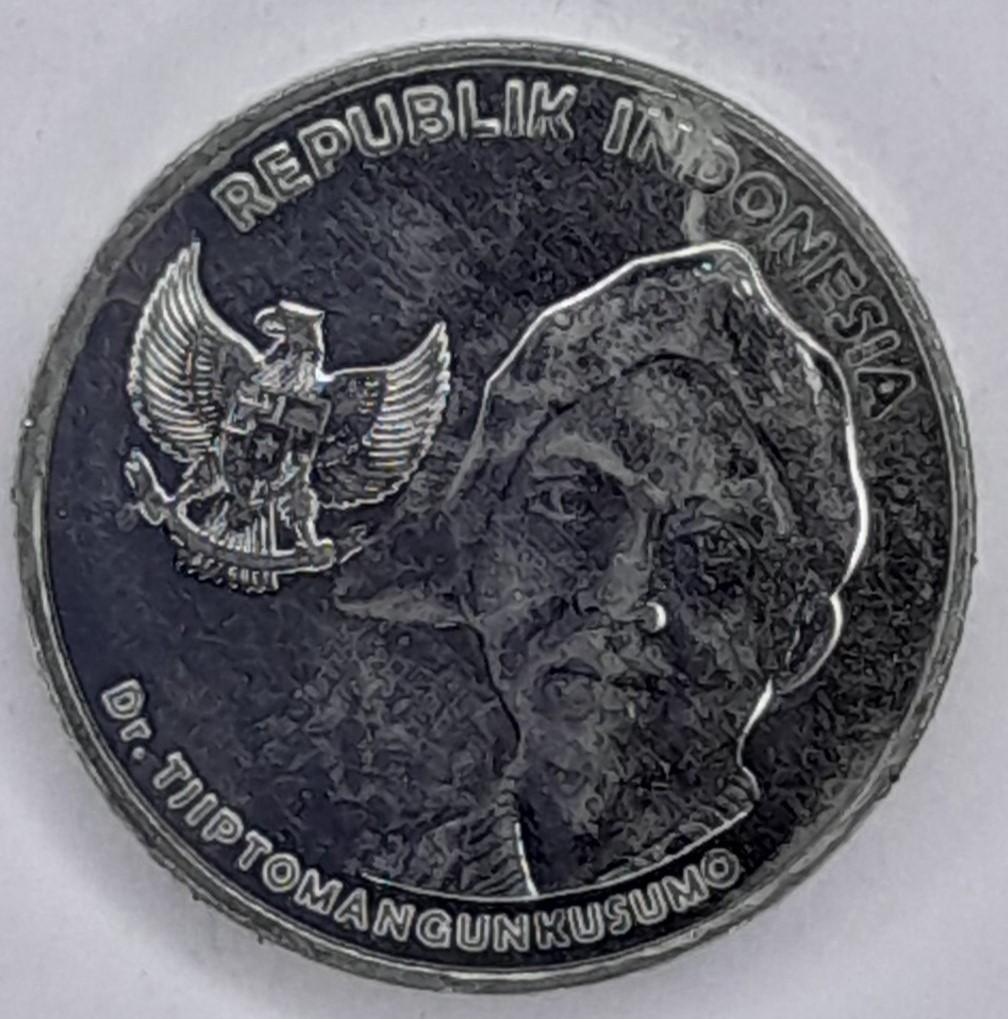coin_200_e2016: (0, 18, 1008, 1019)
